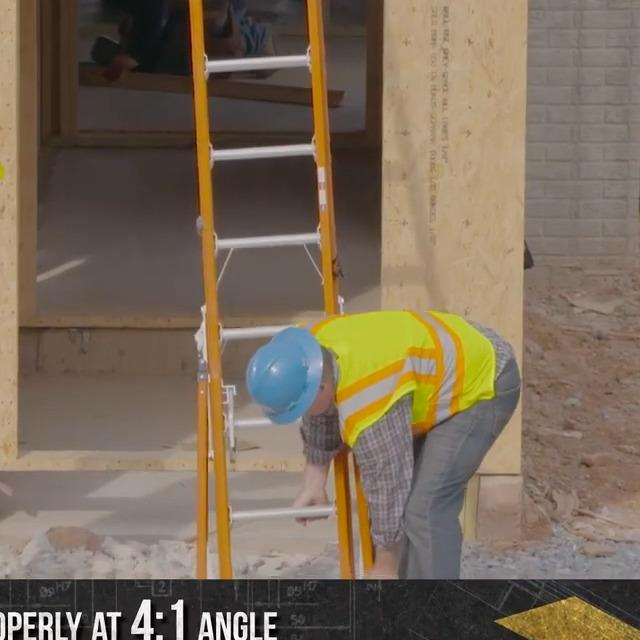Hardhat: (245, 326, 324, 425)
Ladder: (184, 0, 374, 577)
NO-Mask: (314, 396, 330, 418)
Person: (249, 307, 524, 577), (108, 0, 278, 83)
Safety Vest: (316, 309, 495, 449)
